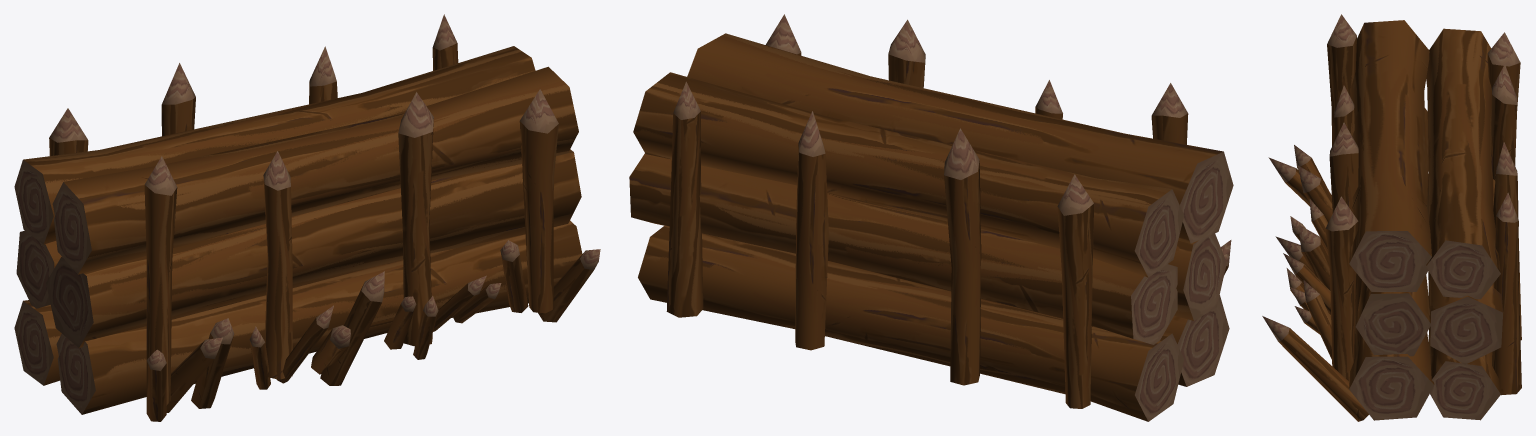
Rendered from SM_PROP_barricade_battle_01.fbx.
3 views of the same model, side by side, from view 1: azimuth 30°, elevation 25°; view 2: azimuth 150°, elevation 25°; view 3: azimuth 270°, elevation 25° (orthographic). The views are drawn at different scales.
Parts seen in each view (by area): view 1: SM_PROP_barricade_battle_01; view 2: SM_PROP_barricade_battle_01; view 3: SM_PROP_barricade_battle_01.
Part boxes in pixels (x1=…): SM_PROP_barricade_battle_01: x1=14, y1=14, x2=600, y2=421; SM_PROP_barricade_battle_01: x1=629, y1=14, x2=1233, y2=421; SM_PROP_barricade_battle_01: x1=1262, y1=14, x2=1521, y2=421.
Bounding box in the file's own units: 407 × 214 × 210.
